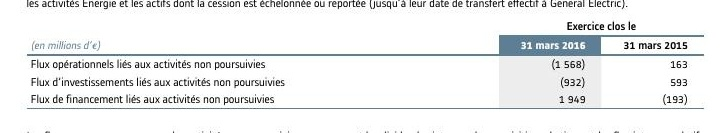table: (0, 0, 725, 133)
